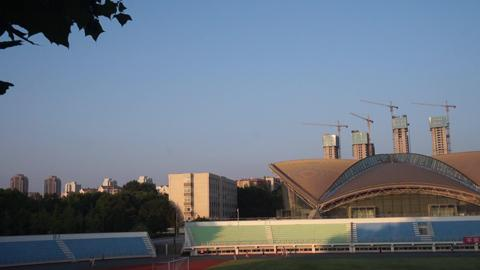UAV: (388, 211, 392, 214)
